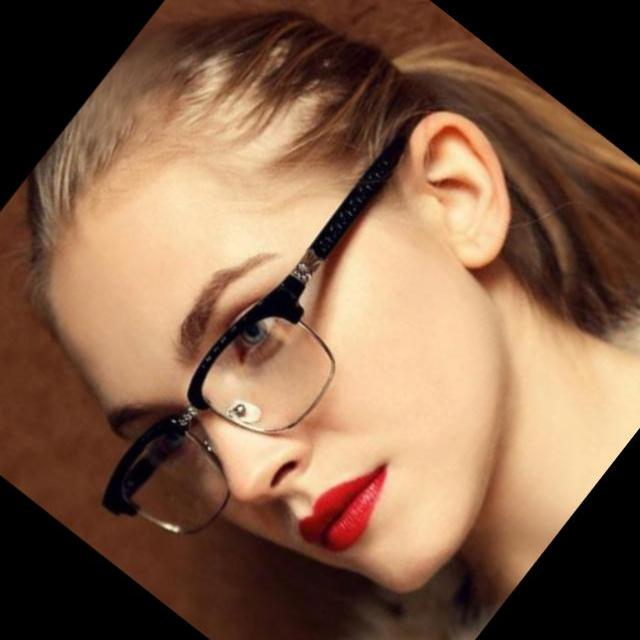glasses: (90, 125, 476, 573)
